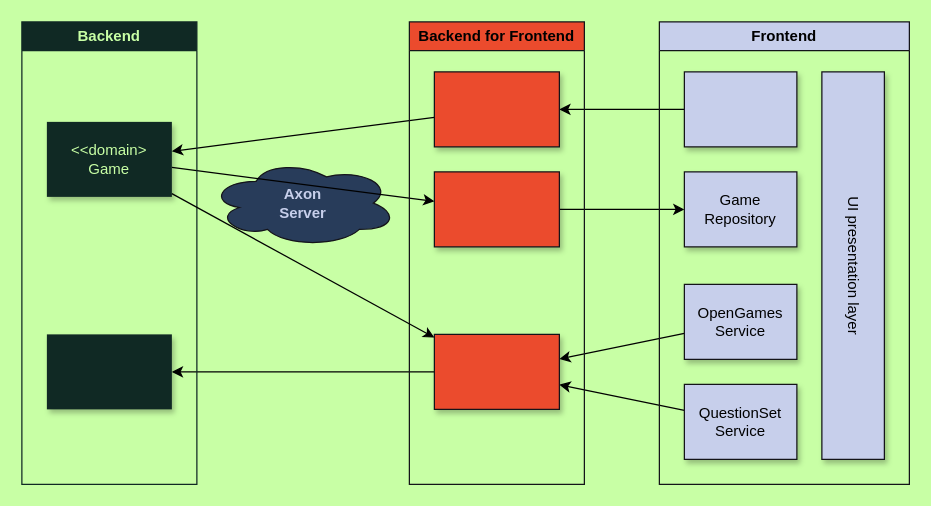
The diagram is 931 pixels wide and 506 high, and some of its shapes have lost their labels. Here are the shapes that lost their labels. From the top down, the centre of each, then its label:
[497,111]: Command Forwarder
[741,111]: Game Command Service
[497,211]: Websocket Event Forwarder
[110,373]: <<domain> Question
[497,373]: Basic read models
